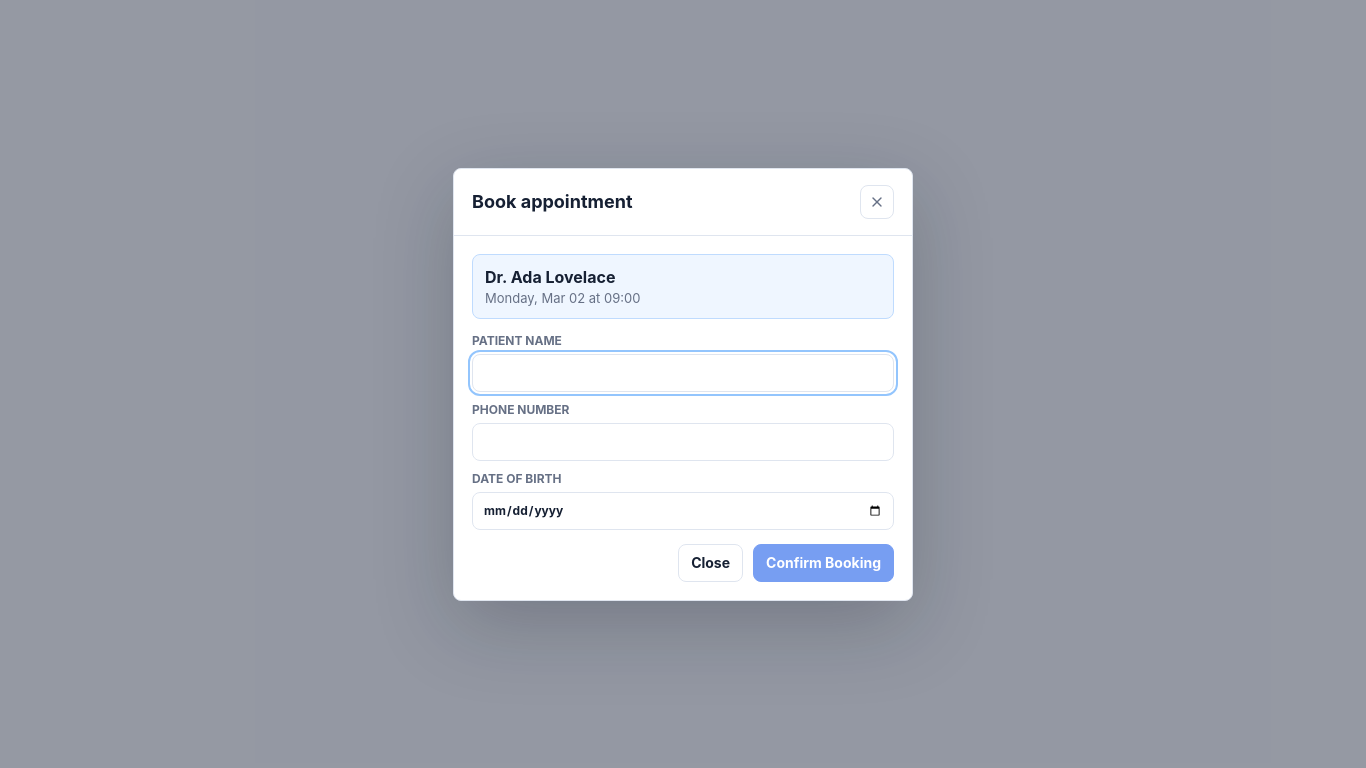
Test: BookingDialog › checks the phone number before it asks the API
The image size is (1366, 768).
In the field labelled "Patient Name": (683, 372) [472, 354, 894, 392], type "Grace Hopper"
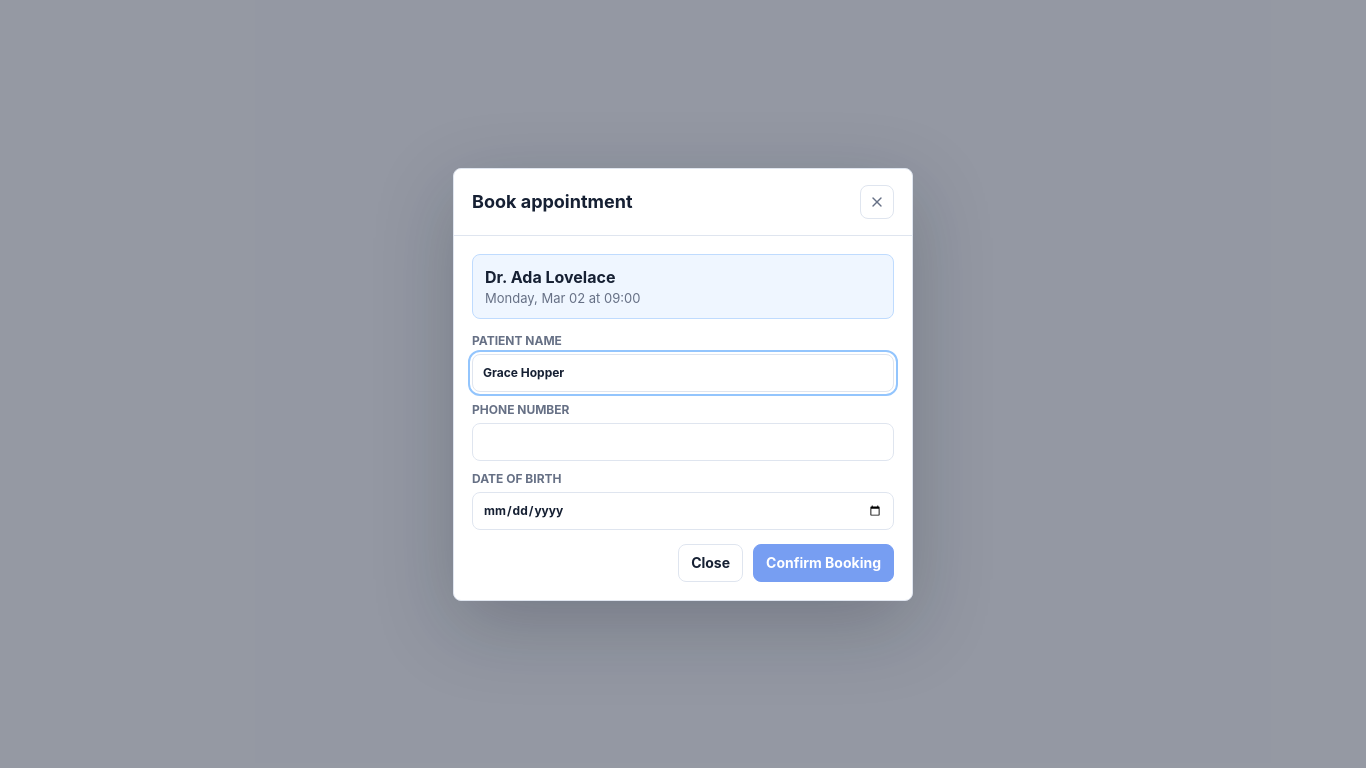
In the field labelled "Phone Number": (683, 442) [472, 422, 894, 460], type "123"
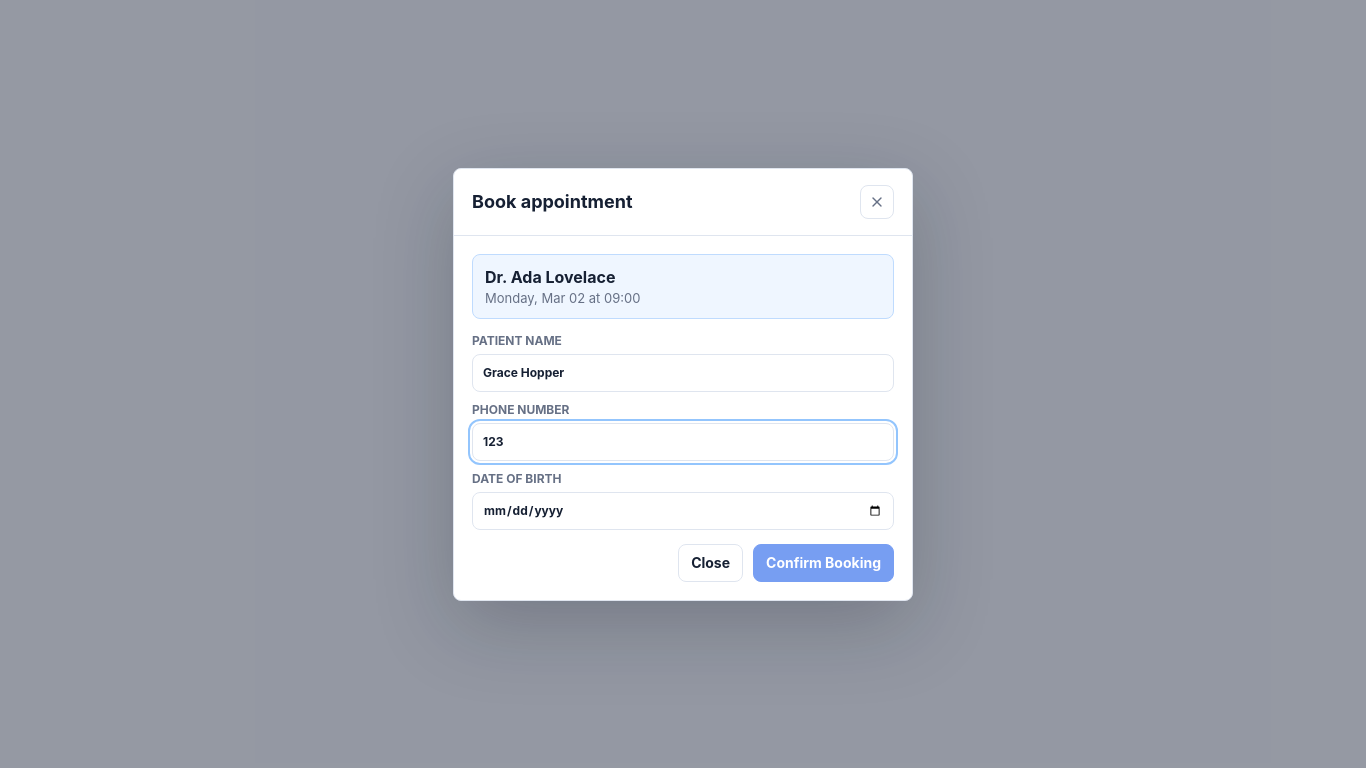
In the date field labelled "Date of Birth": (683, 510) [472, 492, 894, 530], type "1990-05-20"
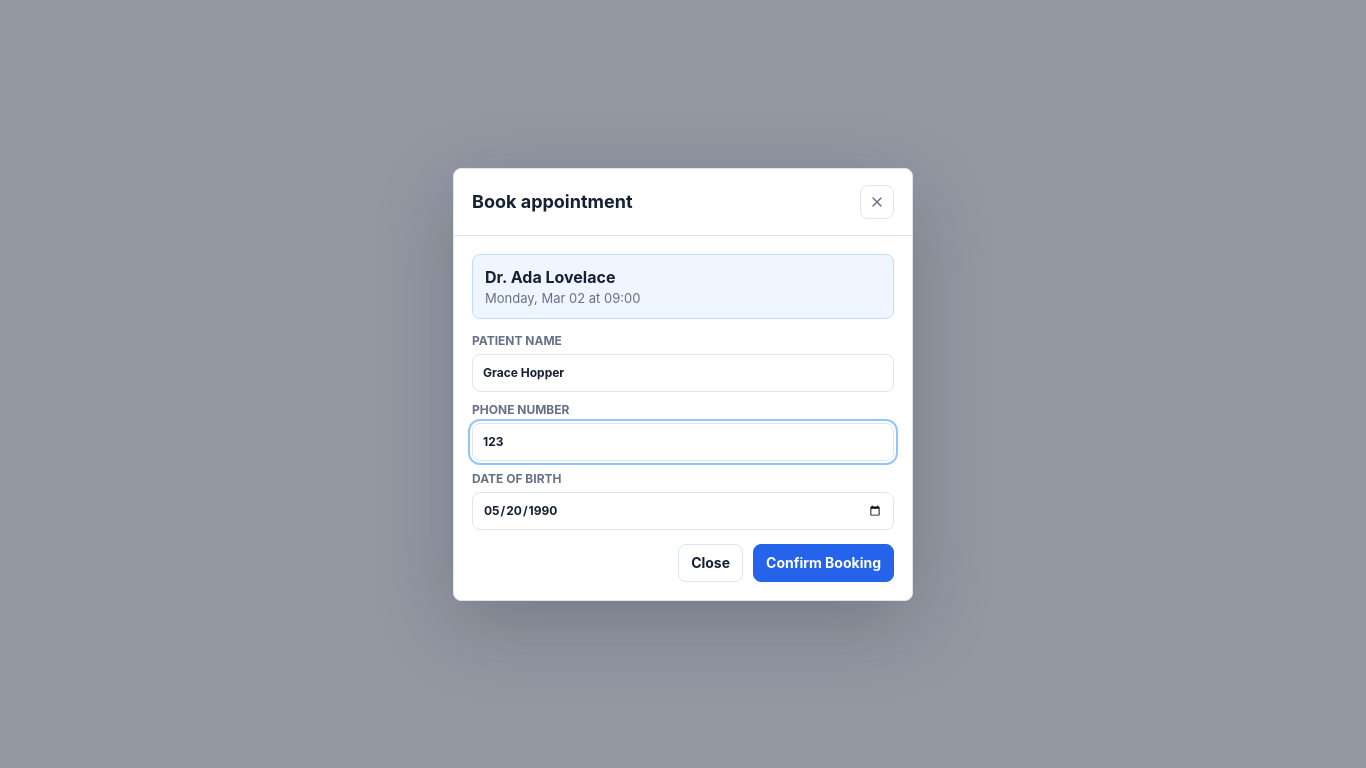
Click the button "Confirm Booking": (824, 562) [753, 544, 894, 582]
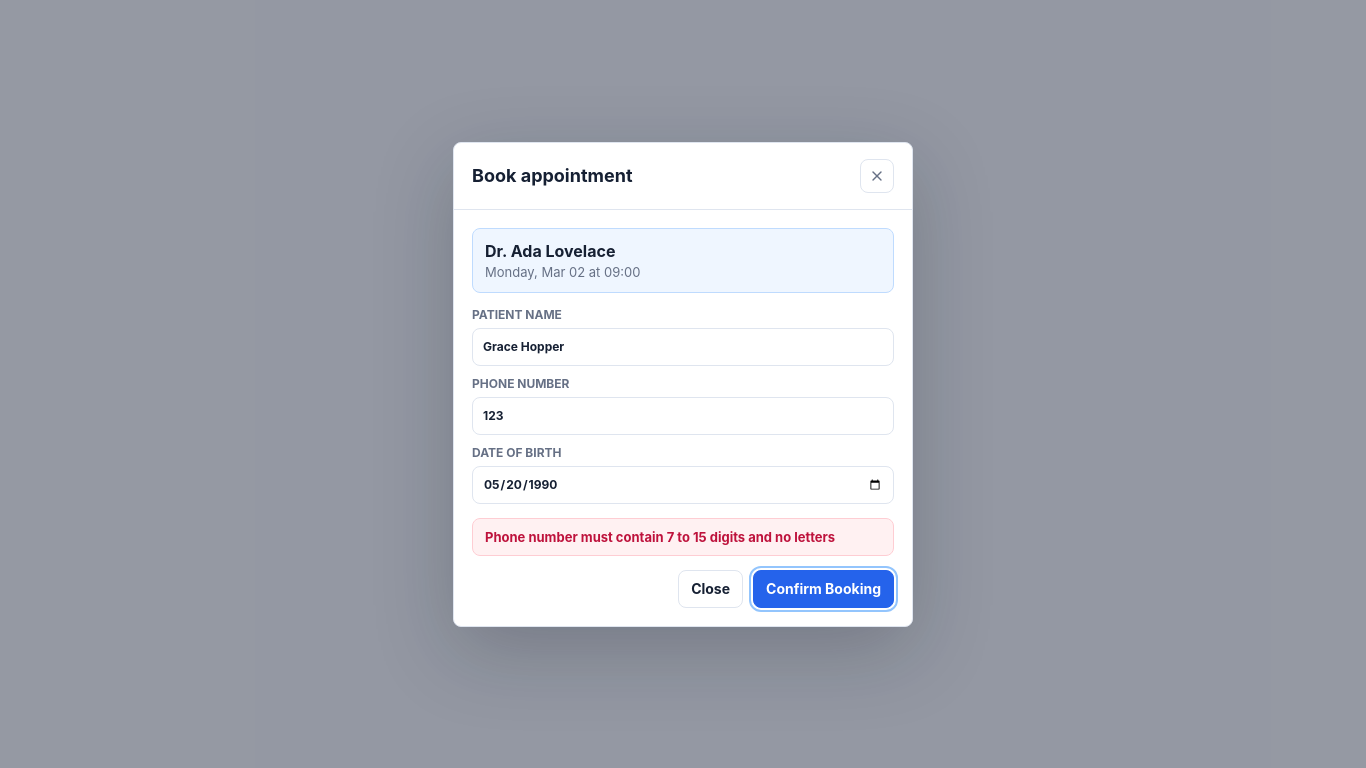
Check: the text "Phone number must contain 7 to 15 digits and no letters" is shown, box [472, 518, 894, 556]
